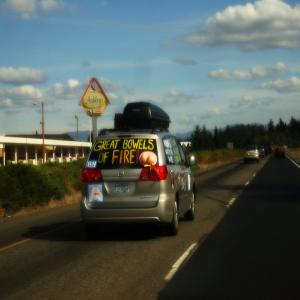Vehicle-registration-plate: (115, 183, 130, 195)
